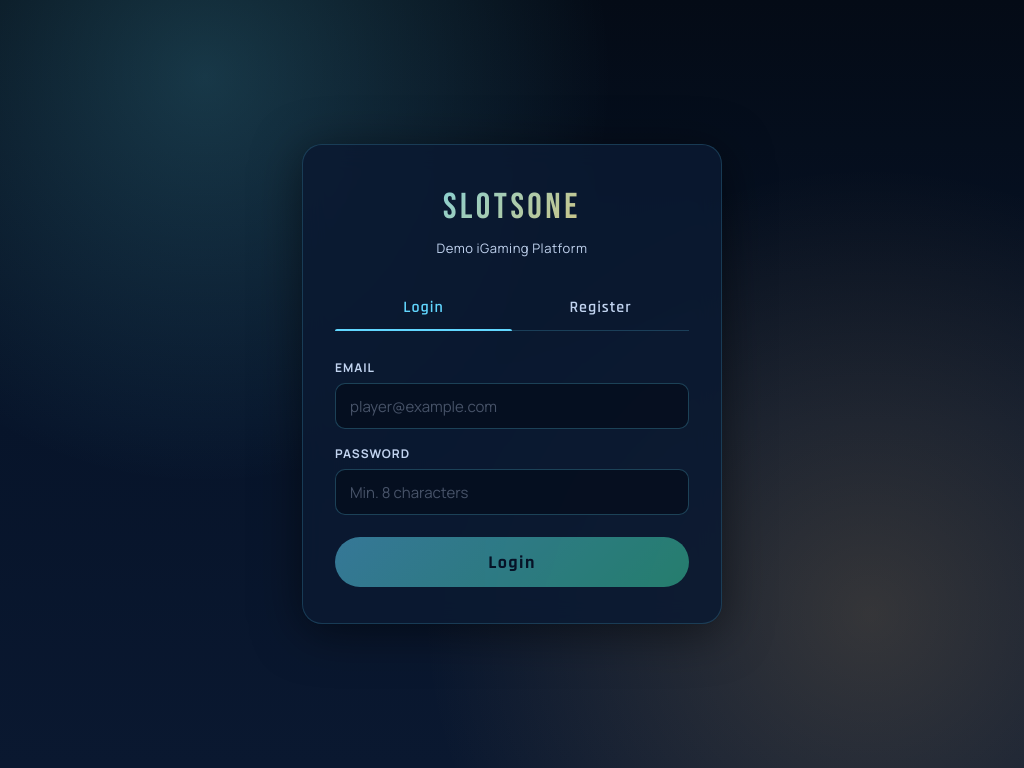
Test case: form validation › requires age confirmation on register tab
Expected: the field labelled "Email" is shown, [335,383,689,429]
Click the tab "Register" at (600, 308), box [512,286,689,330]
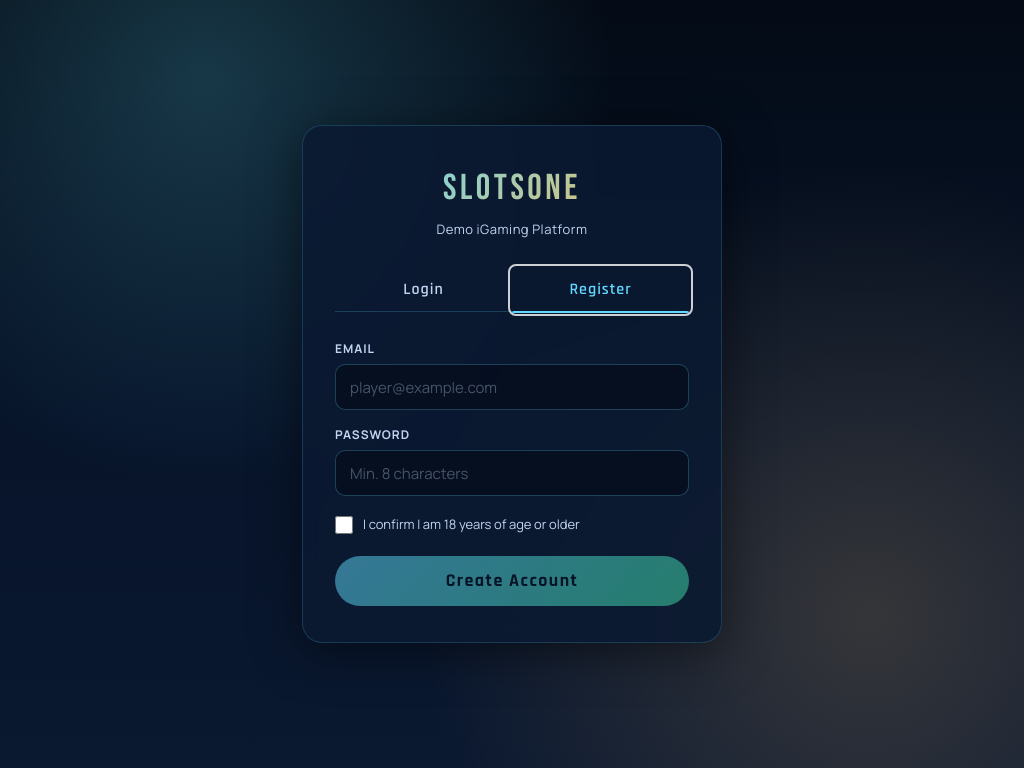
Type "a@b.com" into the field labelled "Email" at (512, 388), box [335,365,689,411]
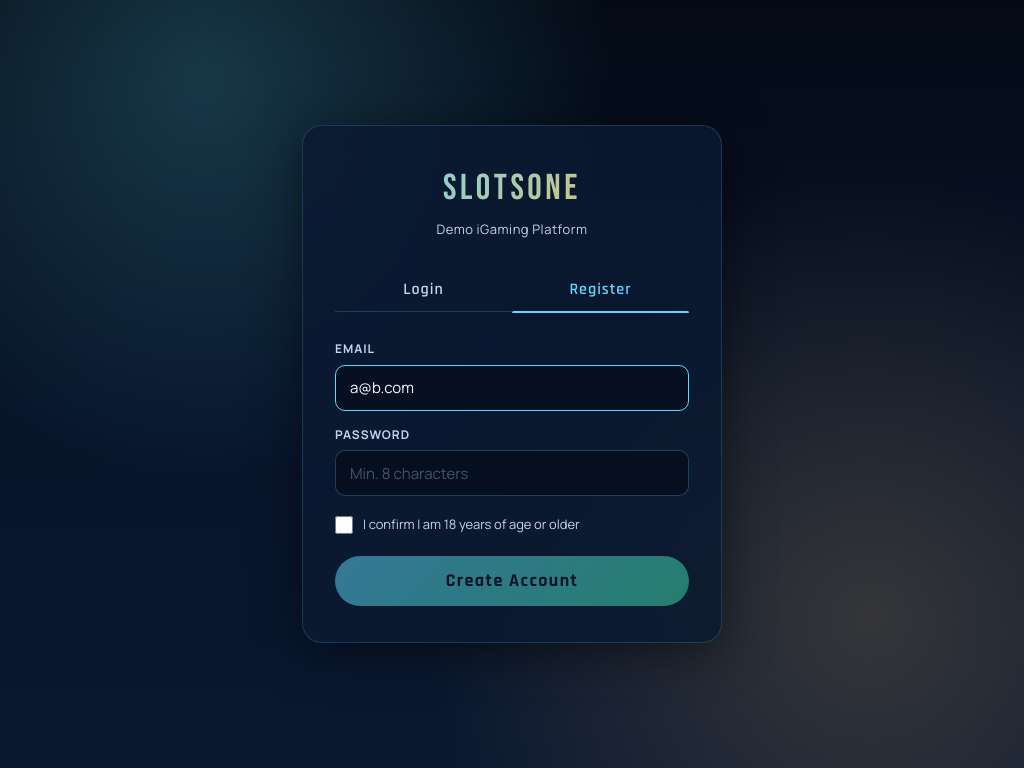
Type "password1" into the password field labelled "Password" at (512, 474), box [335,451,689,497]
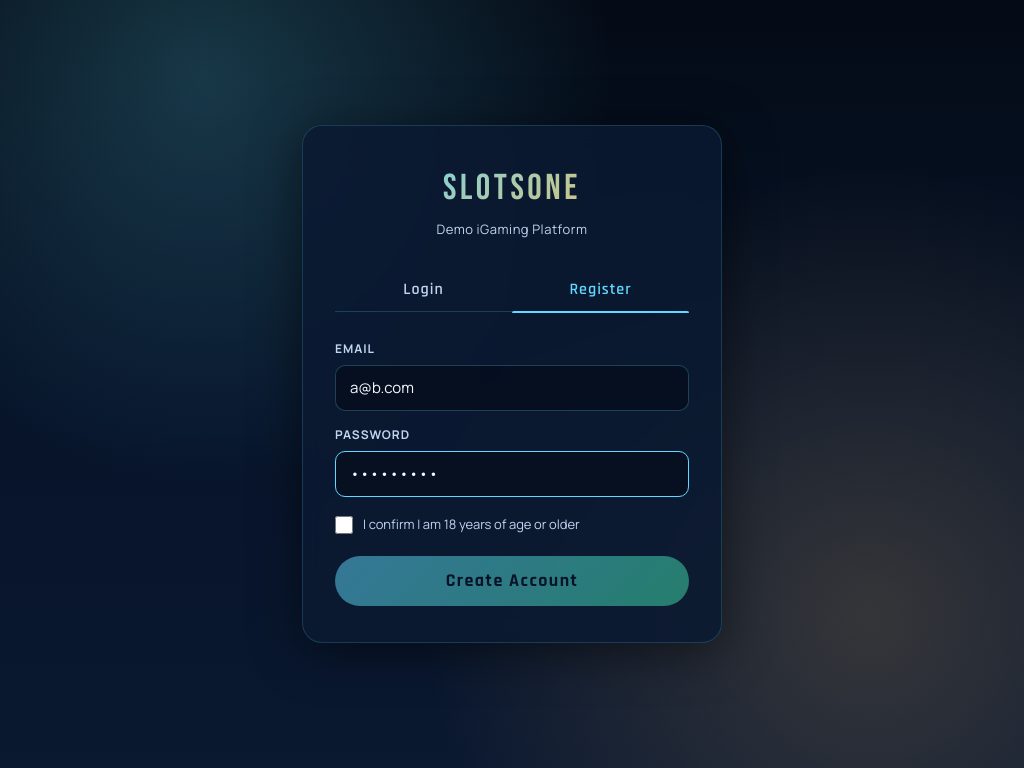
Expected: the button "Create Account" is disabled, [335,556,689,606]
Note: With age confirmation — enabled
Click the checkbox labelled "I confirm I am 18 years of age or older" at (344, 525), box [335,516,353,534]
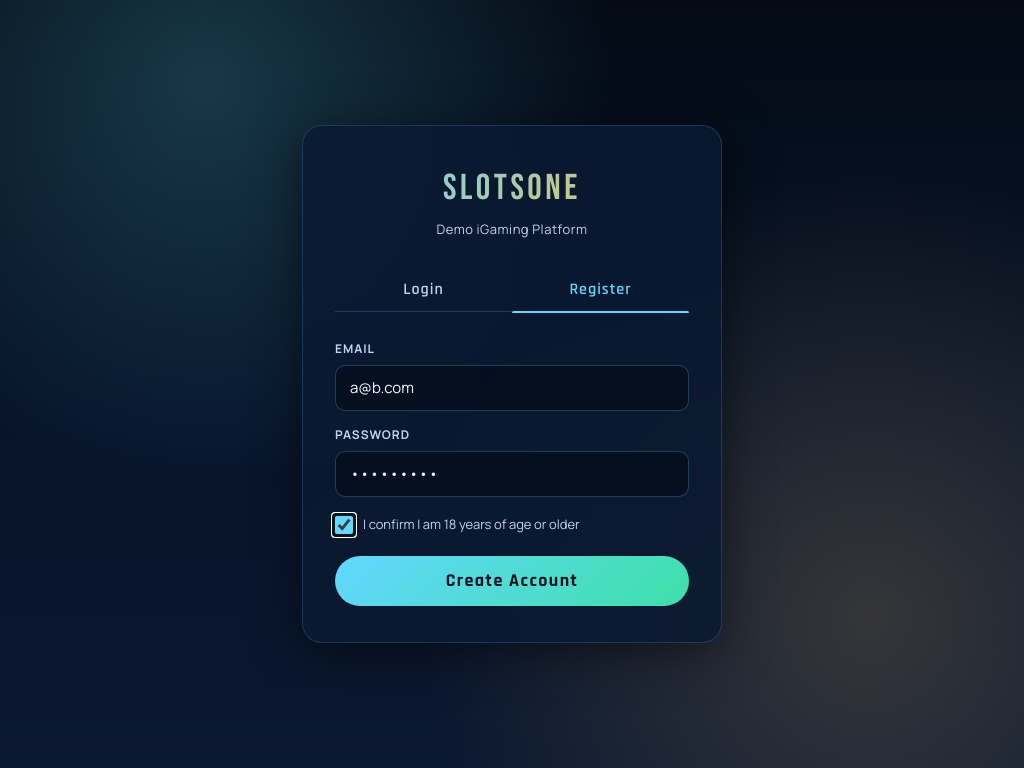
Result: the button "Create Account" is enabled at [335,556,689,606]
